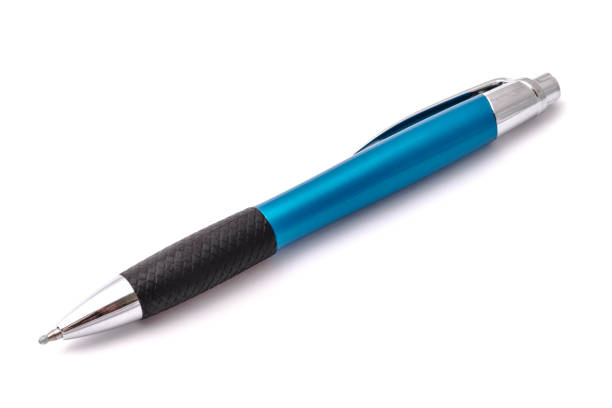pen: (33, 69, 570, 365)
